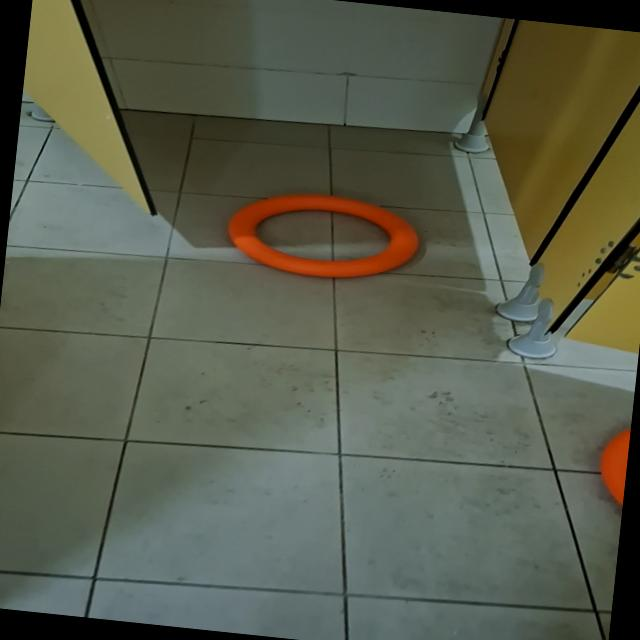note: (221, 184, 424, 288), (596, 418, 631, 508)
